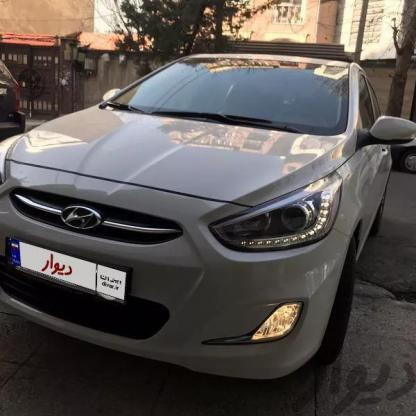Car: (0, 47, 416, 386)
